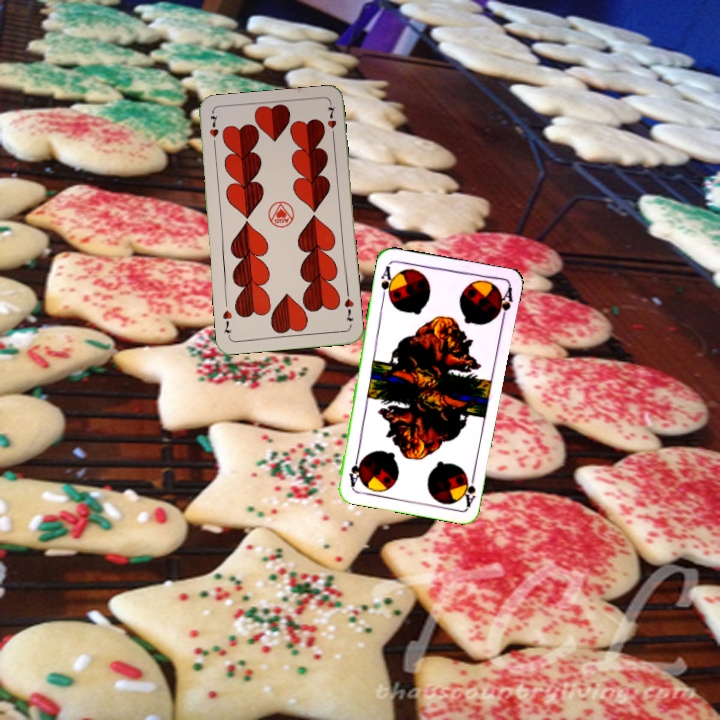H7: (205, 111, 221, 150), (340, 287, 356, 324)
SA: (376, 261, 397, 303), (459, 468, 478, 509)
